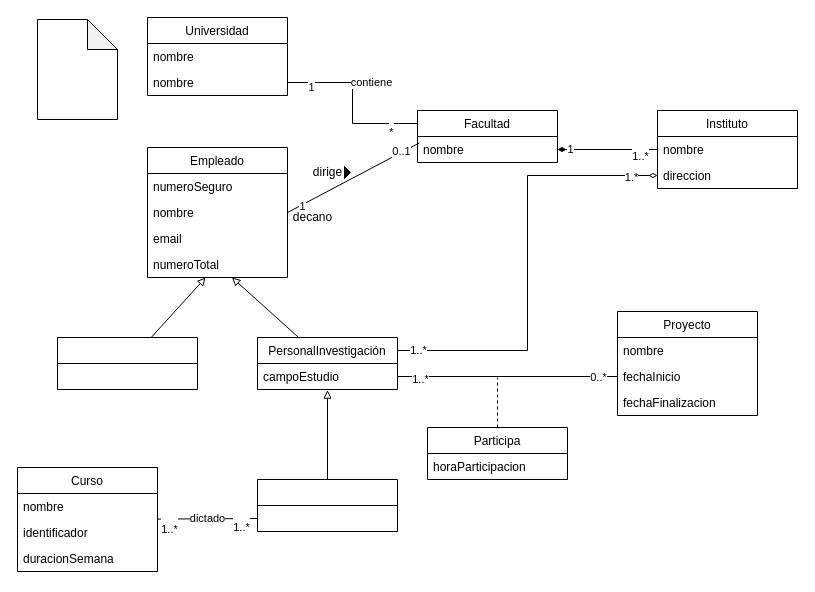
Image size: 815x592. Some labels were removed from this diagram. The centre of each missing label's shape, as x and y in pixels:
"Conferencista" belongs at point (327, 505).
"Edwin René Guamán Quinche" belongs at point (77, 69).
"PersonaAdministrativo" belongs at point (127, 363).
